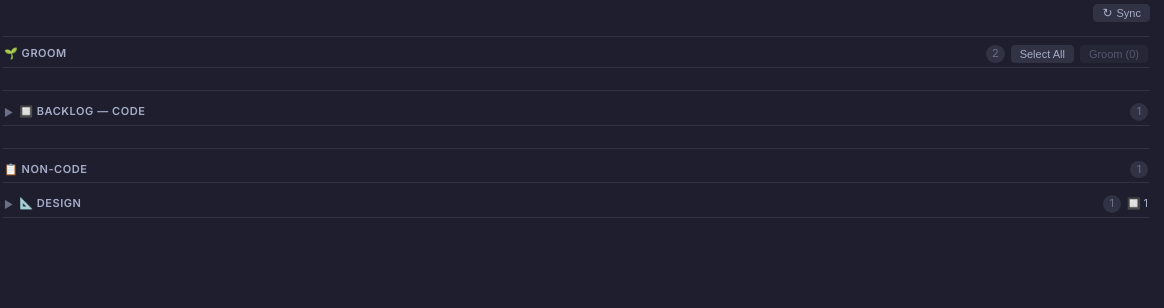
Test case: TaskList › backlog-code tasks render in their own section, separate from the non-code section
Click the button with test id "group-header-backlog" at (82, 111), box [2,99,1150,126]
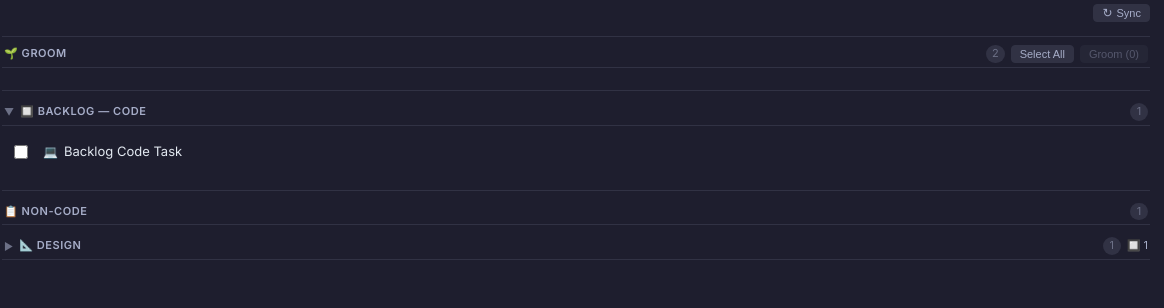
Expected: the text "Backlog Design Task" is not shown
Expected: the text "Backlog Code Task" is shown, [64,143,182,159]
Click the button with test id "type-card-header-design" at (50, 245), box [2,233,1150,260]
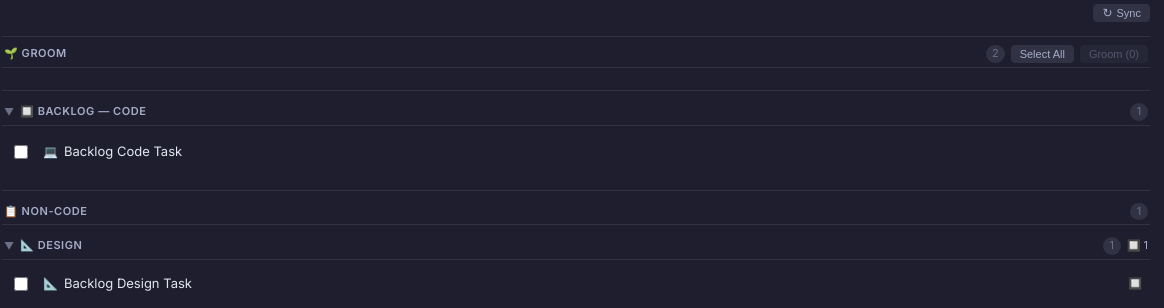
Expected: the text "Backlog Design Task" is shown, [64,275,192,291]
